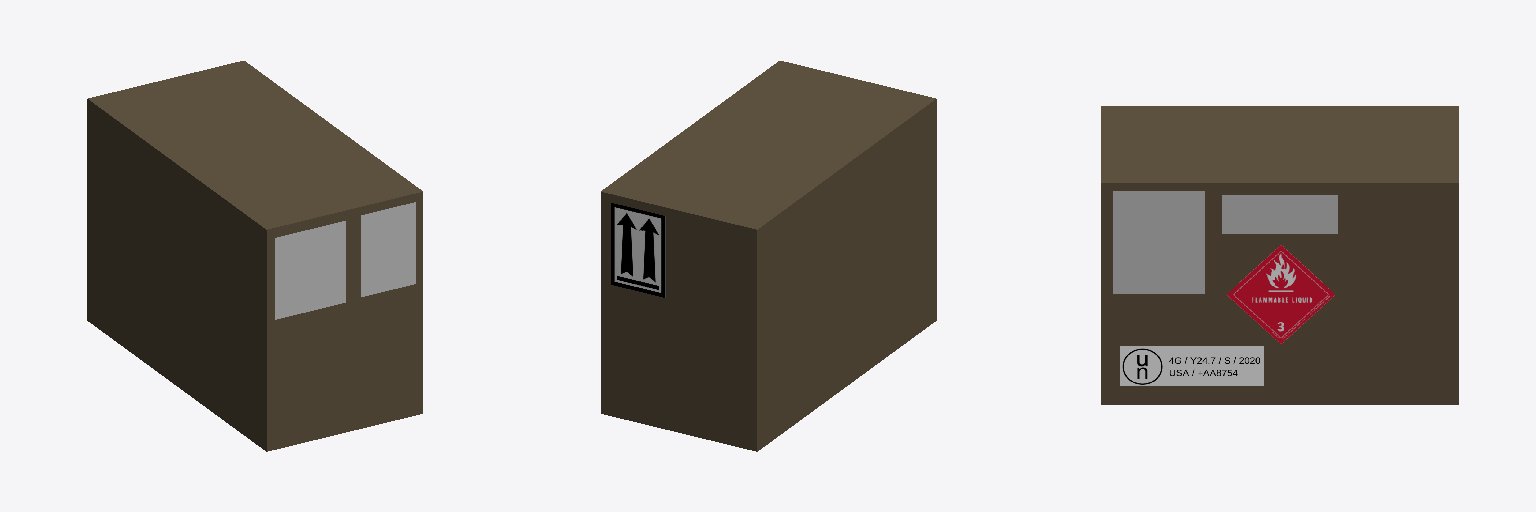
3 views of the same model, side by side, from view 1: azimuth 30°, elevation 25°; view 2: azimuth 150°, elevation 25°; view 3: azimuth 270°, elevation 25° (orthographic).
Visible parts, largest first — view 1: Cube, Screenshot_2025-04-01_151141, Screenshot_2025-04-02_141838; view 2: Cube, image30; view 3: Cube, Screenshot_2025-04-02_141724, image29, image32, text1.
Boxes of the visible parts, <box> form: Cube: <box>87,61,422,451</box>; Screenshot_2025-04-01_151141: <box>275,221,345,319</box>; Screenshot_2025-04-02_141838: <box>361,202,415,296</box>; Cube: <box>601,61,936,451</box>; image30: <box>611,203,665,297</box>; Cube: <box>1101,106,1458,404</box>; Screenshot_2025-04-02_141724: <box>1113,191,1204,293</box>; image29: <box>1120,346,1263,385</box>; image32: <box>1227,245,1334,343</box>; text1: <box>1222,195,1337,233</box>.
Bounding box in the file's own units: 2.02 × 2.71 × 3.98.
Materials: 8 (3 with a texture image).